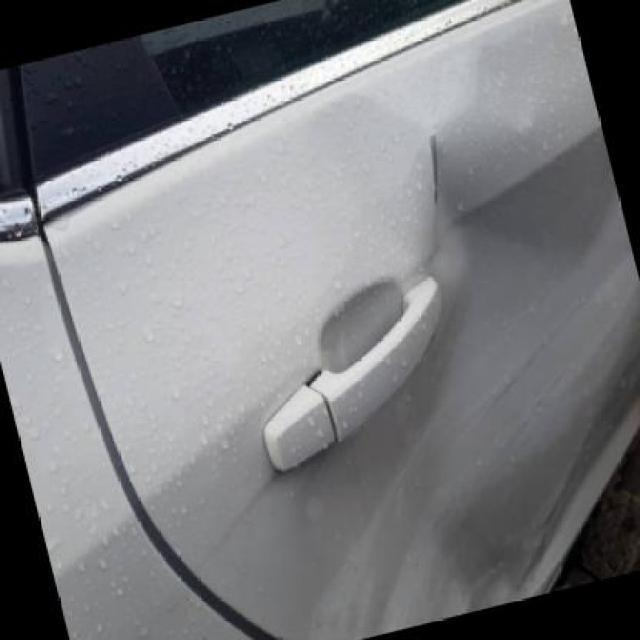dent: (249, 146, 632, 566)
